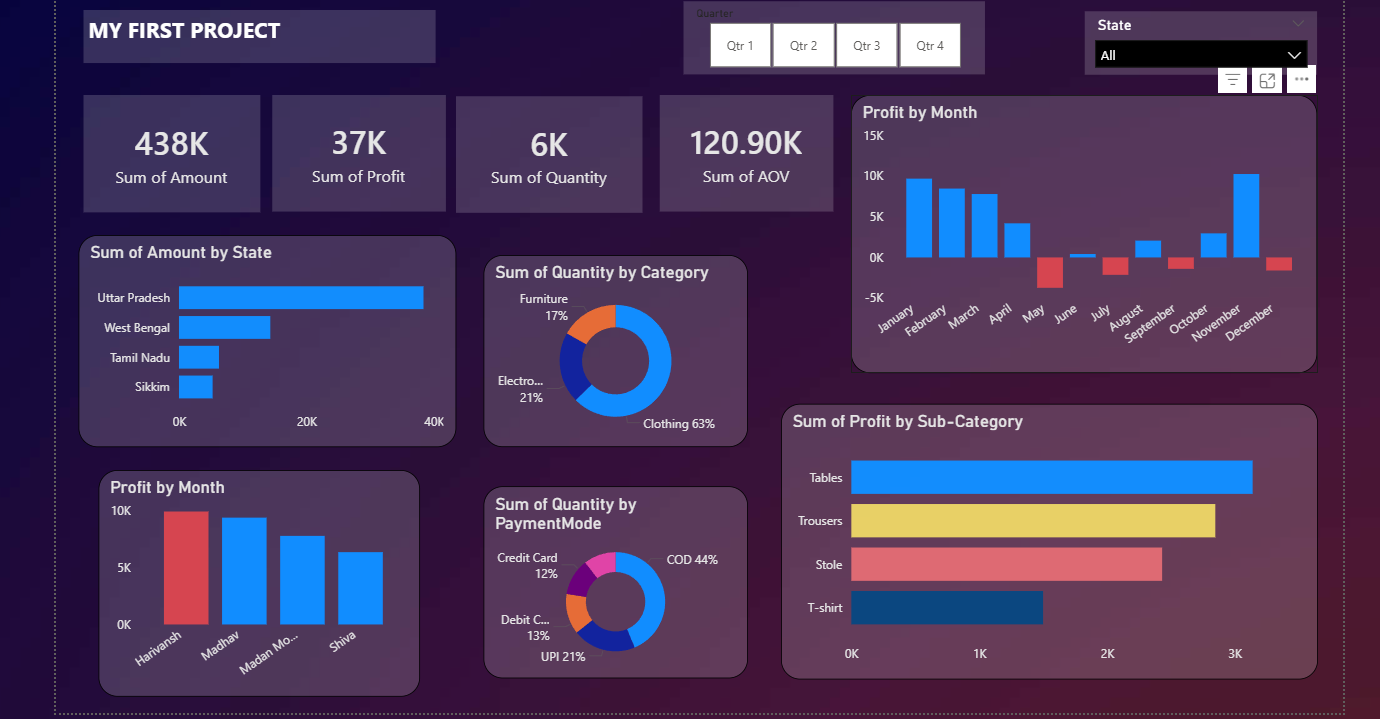

The dashboard page shown, as its layout file describes it:
{"tool":"powerbi","page":{"name":"Page 1","canvas":[1280,720],"ordinal":0},"visuals":[{"type":"columnChart","title":"Profit by Month","fields":{"Y":["Sum(Details.Profit)"],"Category":["Orders.Order Date.Variation.Date Hierarchy.Month"]},"box":[791.4,104.3,464.3,277.1],"z":0},{"type":"textbox","box":[27.1,20,350,52.9],"z":1000},{"type":"barChart","fields":{"Category":["Details.Sub-Category"],"Y":["Sum(Details.Profit)"]},"box":[721.4,411.4,534.3,274.3],"z":2000},{"type":"donutChart","fields":{"Category":["Details.PaymentMode"],"Y":["Sum(Details.Quantity)"]},"box":[425.7,494.3,262.9,191.4],"z":3000},{"type":"donutChart","fields":{"Category":["Details.Category"],"Y":["Sum(Details.Quantity)"]},"box":[425.7,264.3,262.9,191.4],"z":4000},{"type":"cardVisual","fields":{"Data":["Sum(Details.Amount)"]},"box":[27.1,104.3,175.7,117.1],"z":5000},{"type":"cardVisual","fields":{"Data":["Sum(Details.Profit)"]},"box":[215.7,104.3,172.9,115.7],"z":6000},{"type":"cardVisual","fields":{"Data":["Sum(Details.Quantity)"]},"box":[398.6,105.7,185.7,115.7],"z":7000},{"type":"cardVisual","fields":{"Data":["Sum(Details.AOV)"]},"box":[601.4,104.3,172.9,115.7],"z":8000},{"type":"barChart","fields":{"Category":["Orders.State"],"Y":["Sum(Details.Amount)"]},"box":[22.9,244.3,375.7,211.4],"z":9000},{"type":"columnChart","title":"Profit by Month","fields":{"Category":["Orders.CustomerName"],"Y":["Sum(Details.Amount)"]},"box":[42.9,477.1,320,225.7],"z":10000},{"type":"slicer","fields":{"Values":["Orders.Order Date.Variation.Date Hierarchy.Quarter"]},"box":[624.3,11.4,300,72.9],"z":11000},{"type":"slicer","fields":{"Values":["Orders.State"]},"box":[1024.3,21.4,231.4,62.9],"z":12000}]}

Visuals, with their boxes on the page's 1280x720 design canvas (x1, y1, x2, y2). These are canvas units, not pixel positions in the 1380x719 screenshot, which may show the page scaled, cropped or inside an application window:
"Profit by Month" columnChart: bbox(791, 104, 1256, 381)
textbox: bbox(27, 20, 377, 73)
barChart - Details.Sub-Category x Sum(Details.Profit): bbox(721, 411, 1256, 686)
donutChart - Details.PaymentMode x Sum(Details.Quantity): bbox(426, 494, 689, 686)
donutChart - Details.Category x Sum(Details.Quantity): bbox(426, 264, 689, 456)
cardVisual - Sum(Details.Amount): bbox(27, 104, 203, 221)
cardVisual - Sum(Details.Profit): bbox(216, 104, 389, 220)
cardVisual - Sum(Details.Quantity): bbox(399, 106, 584, 221)
cardVisual - Sum(Details.AOV): bbox(601, 104, 774, 220)
barChart - Orders.State x Sum(Details.Amount): bbox(23, 244, 399, 456)
"Profit by Month" columnChart: bbox(43, 477, 363, 703)
slicer - Orders.Order Date.Variation.Date Hierarchy.Quarter: bbox(624, 11, 924, 84)
slicer - Orders.State: bbox(1024, 21, 1256, 84)
